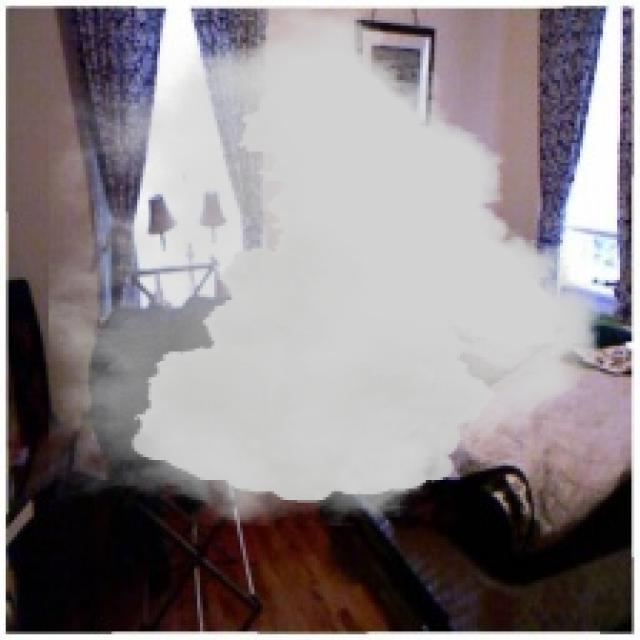Smoke: (49, 6, 600, 526)
